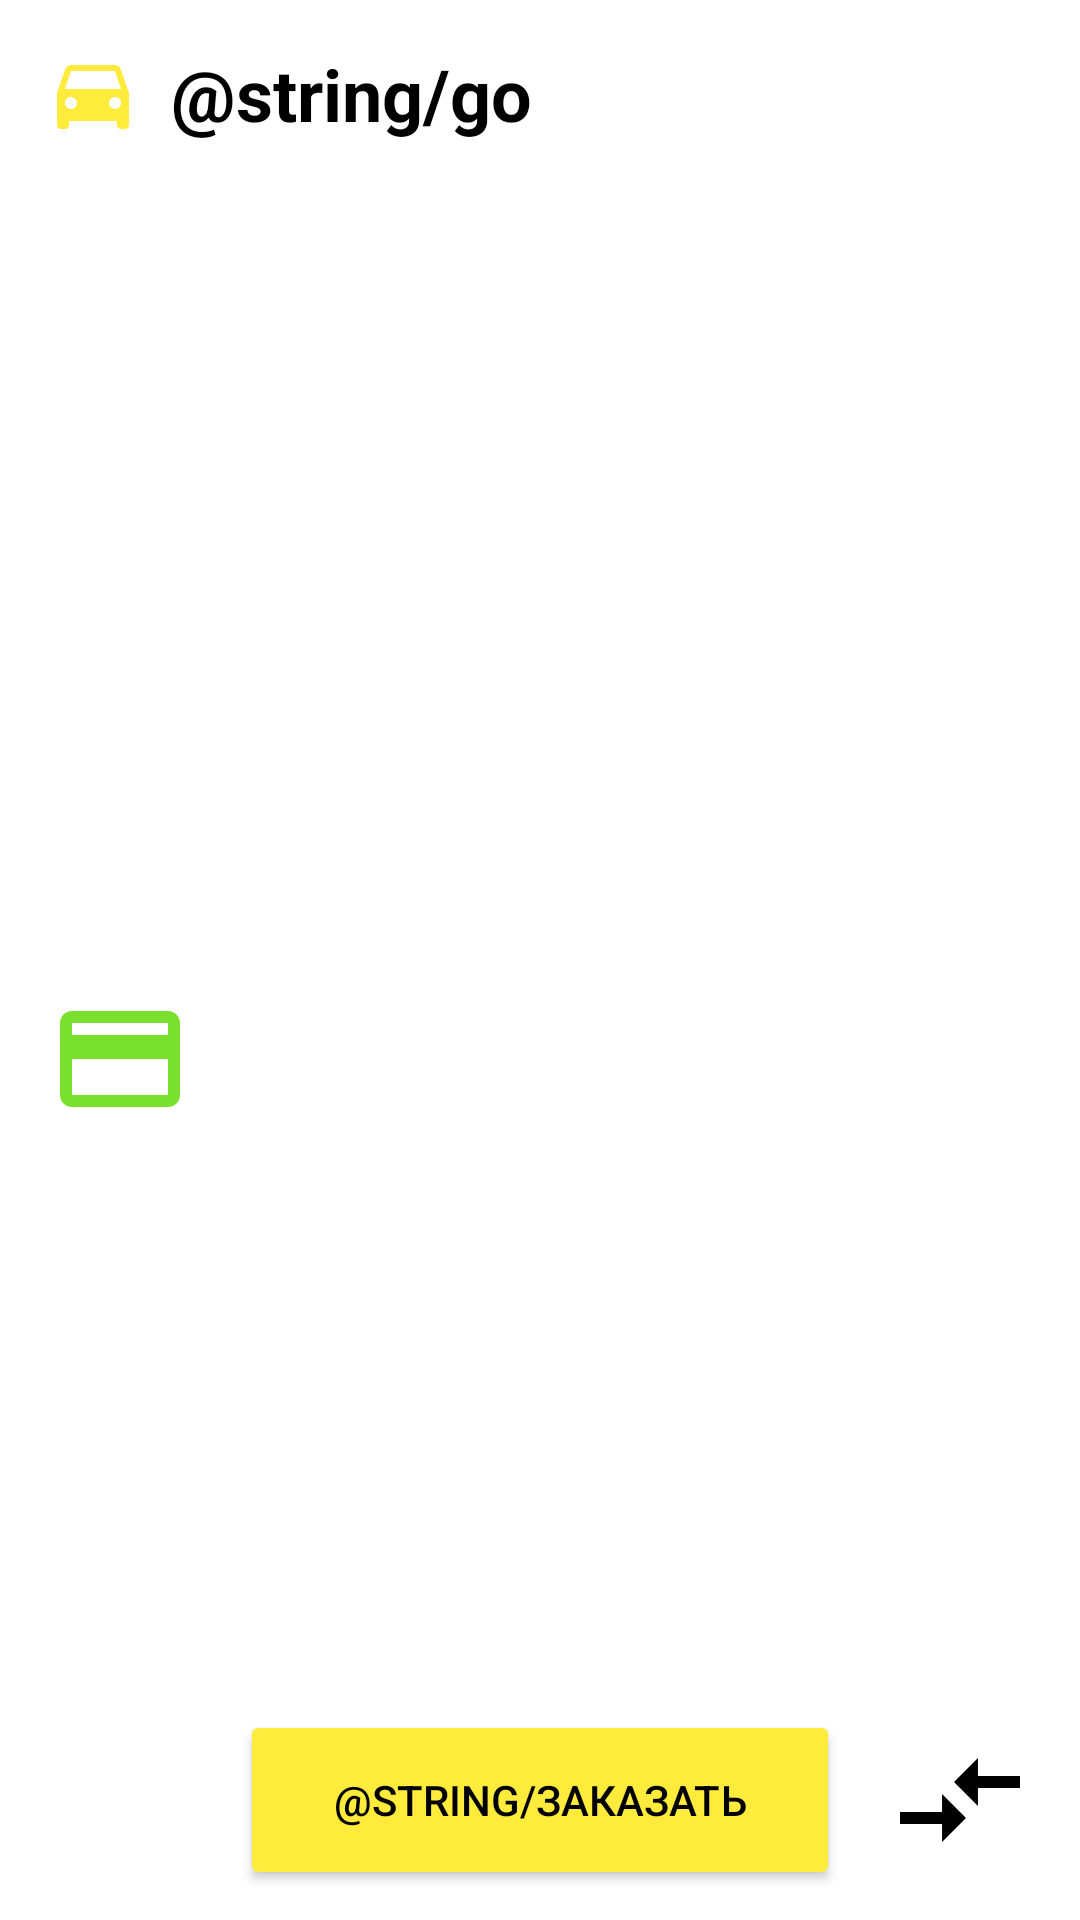

Locate icon controls on the screen. Image size 1080 × 1920, boxes as rect(x1, y1, x2, y2).
car: rect(57, 65, 129, 129)
compare arrows: rect(900, 1758, 1020, 1842)
credit card: rect(60, 1011, 180, 1107)
